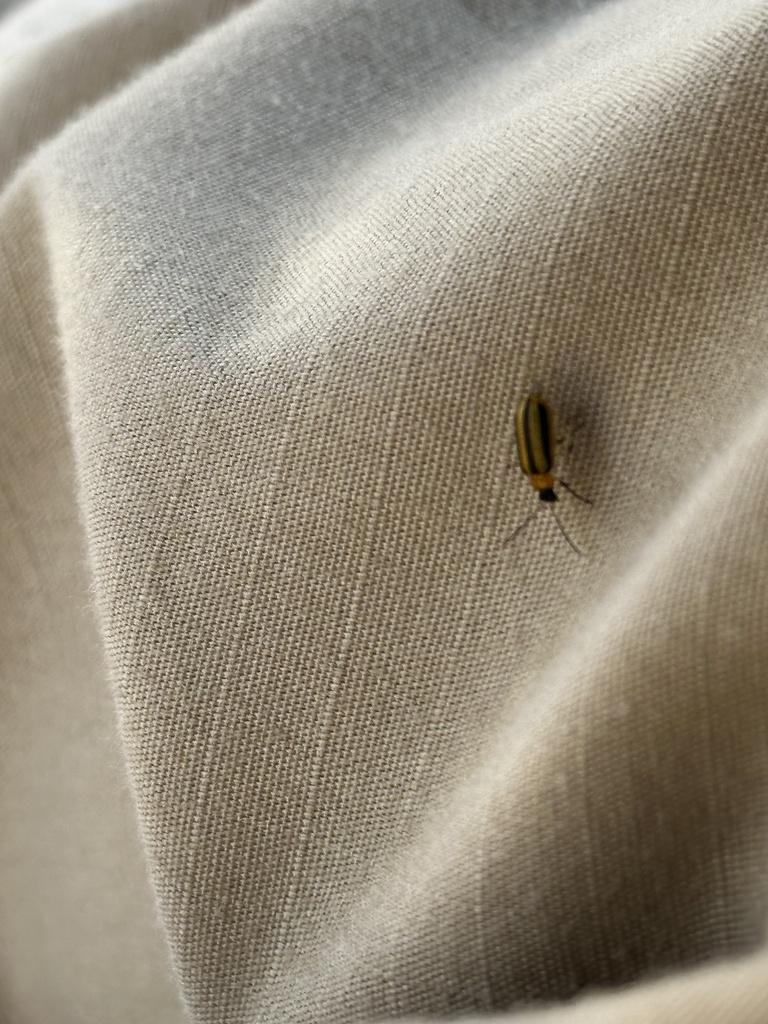potato_beetle: (468, 363, 612, 577)
